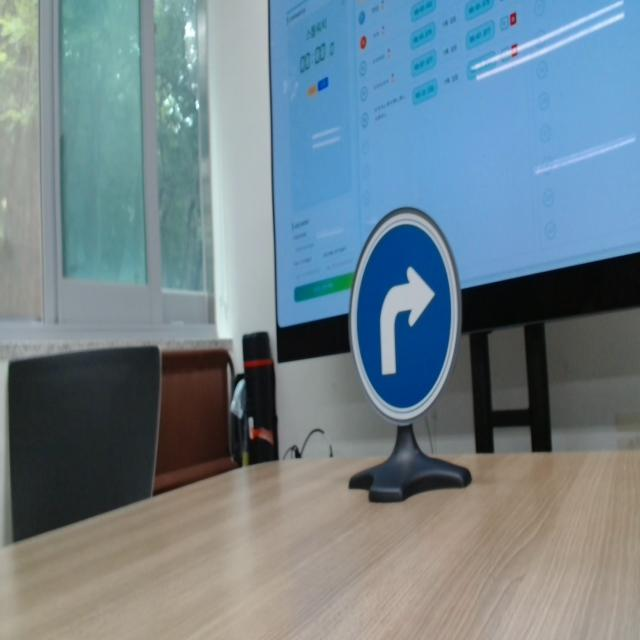right_dierection: (336, 201, 476, 463)
